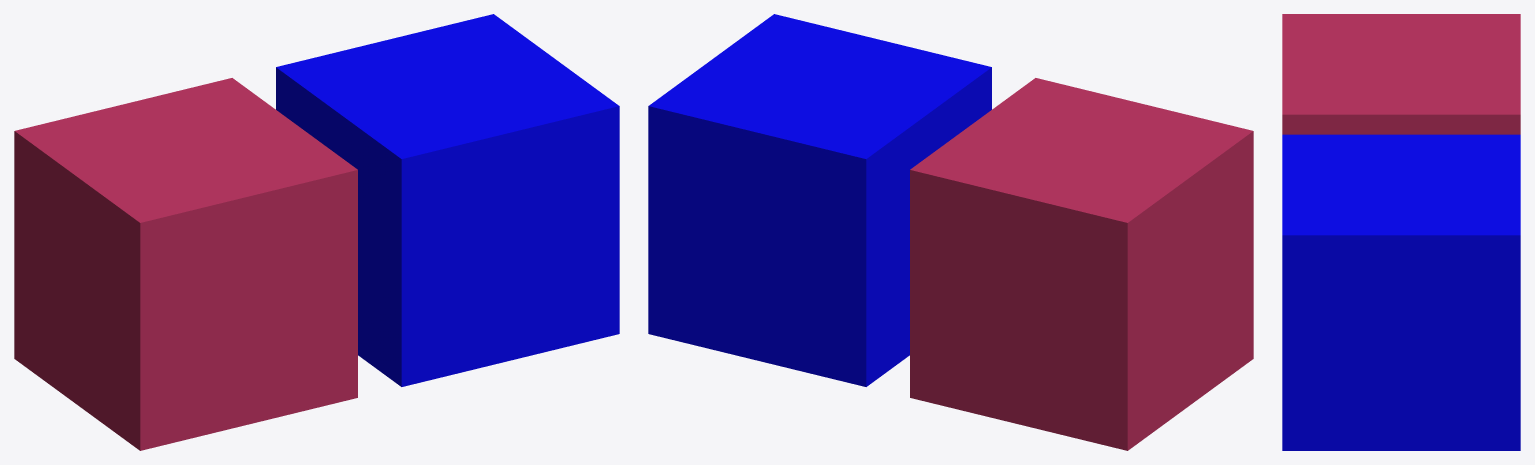
Rendered from textured_two_materials.glb.
3 views of the same model, side by side, from view 1: azimuth 30°, elevation 25°; view 2: azimuth 150°, elevation 25°; view 3: azimuth 270°, elevation 25° (orthographic). The views are drawn at different scales.
Parts seen in each view (by area): view 1: blocks; view 2: blocks; view 3: blocks.
Boxes of the visible parts, x1,y1,x2,y2 form: blocks: [14, 14, 619, 450]; blocks: [648, 14, 1253, 450]; blocks: [1282, 14, 1520, 450].
Bounding box in the file's own units: 22 × 10 × 10.
2 materials, 1 textured.
